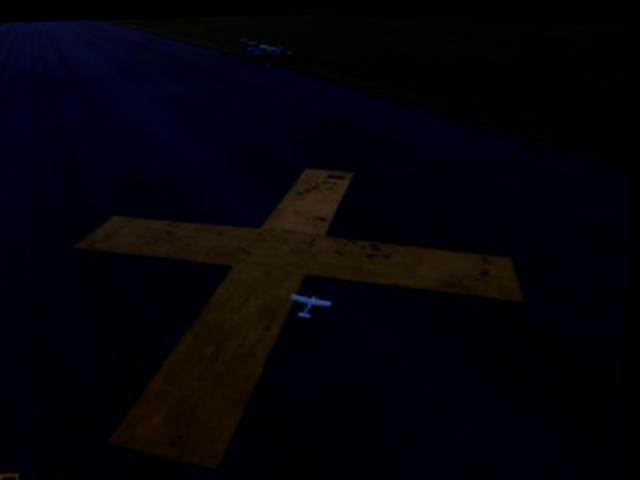uav: (293, 283, 339, 318)
